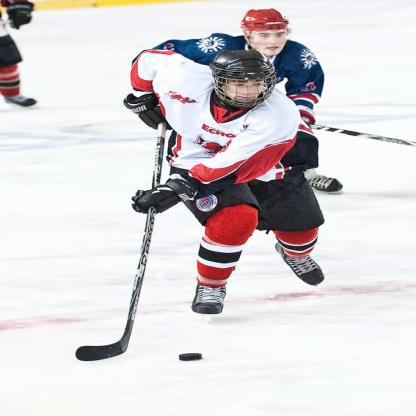Helmet: (207, 44, 285, 110), (238, 6, 290, 57)
